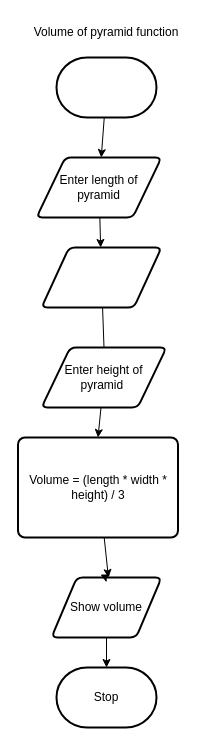
This 197x745 diagram has some shape labels left out. Each missing label, with the box of its shape:
Enter width of pyramid: (40, 246, 162, 308)
Start: (55, 56, 157, 118)
